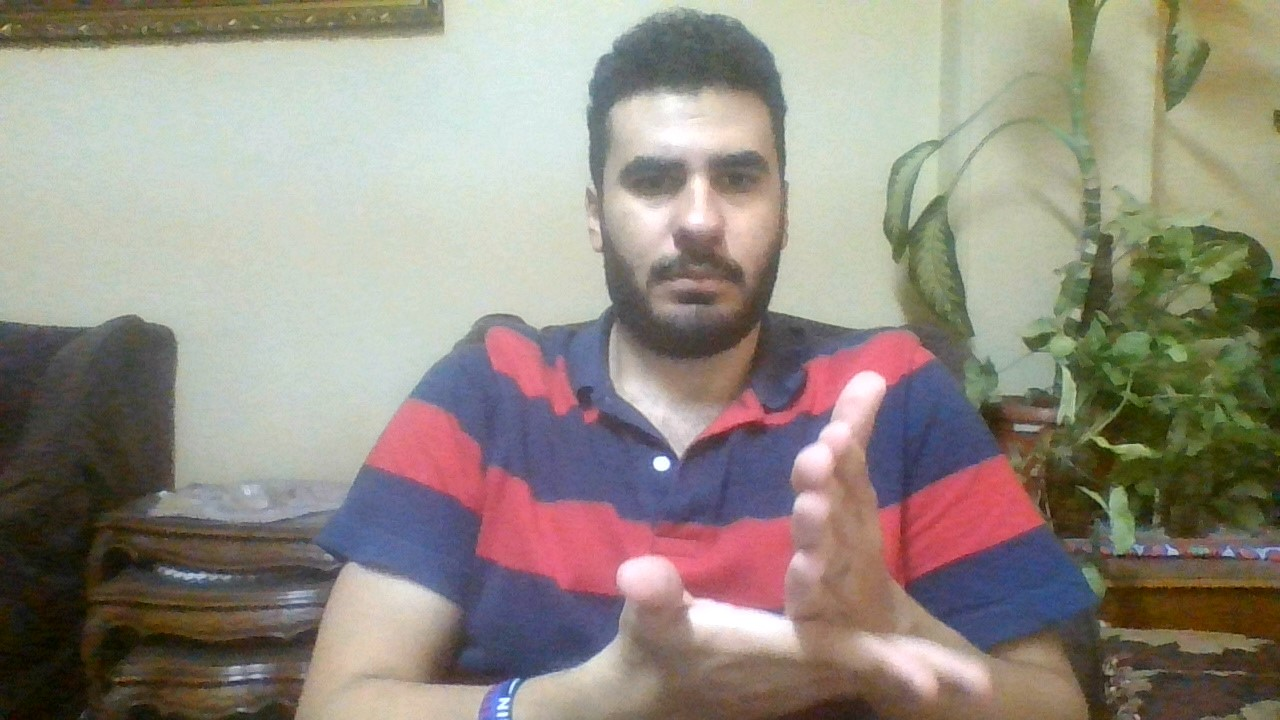stop: (607, 377, 999, 704)
